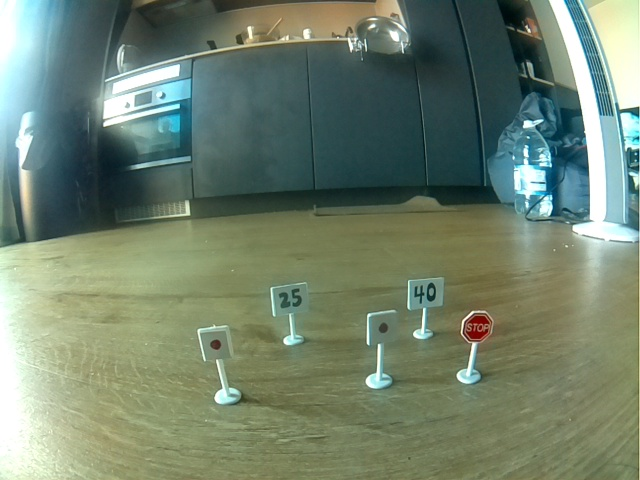red light: (198, 327, 231, 361), (369, 313, 397, 346)
speed 25: (269, 283, 309, 314)
speed 40: (409, 277, 443, 308)
stop: (459, 309, 493, 344)
